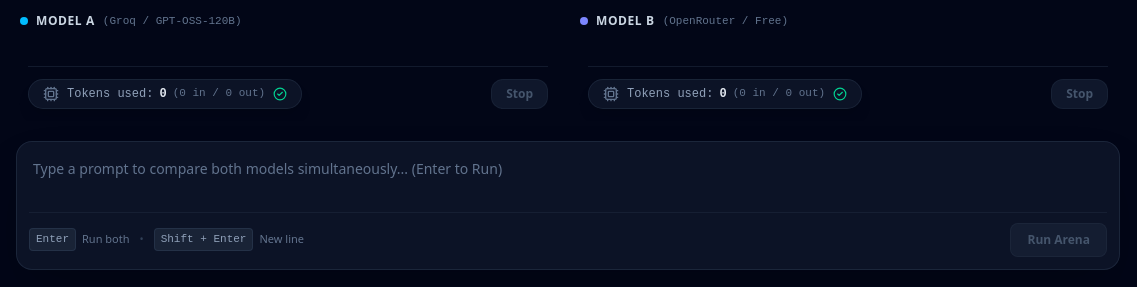
it: DuoArena component › enables the Run button when there is non‑empty input
Expected: the button "Run Arena" is disabled, [1010,222,1107,256]
Replace the text in the text box with placeholder "Type a prompt" with "test prompt" at (568, 180), box [29,154,1107,208]
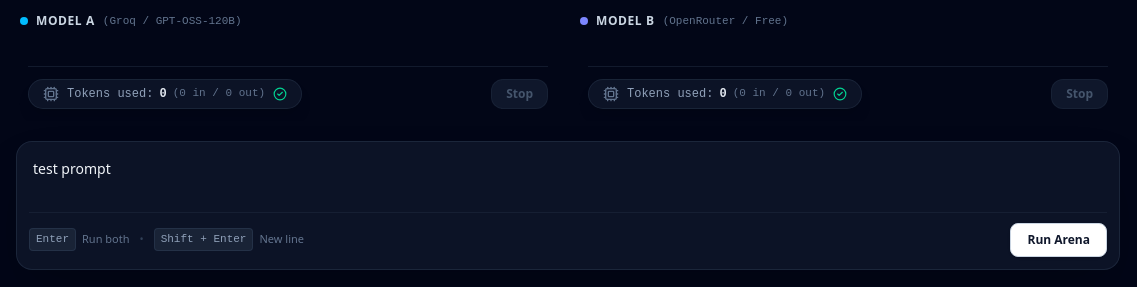
Now the button "Run Arena" is enabled, box [1010,222,1107,256]
